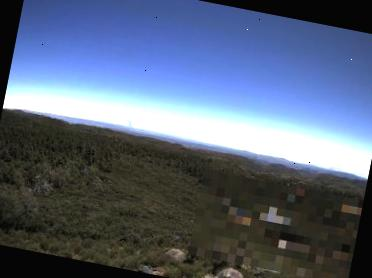smoke: (118, 112, 137, 130)
